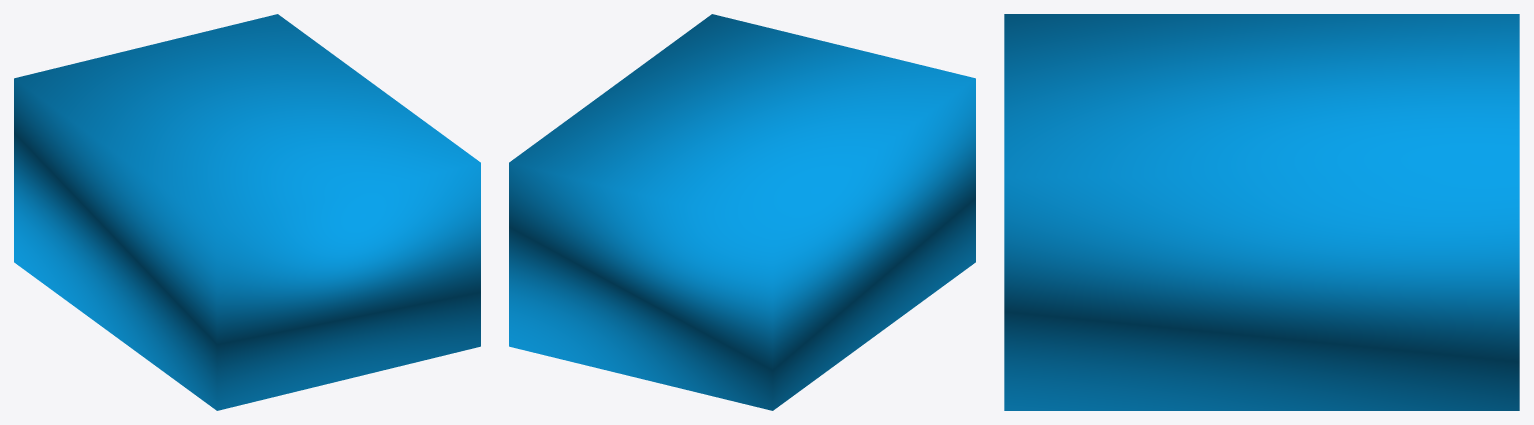
File: dragon_light.dae
The picture shows the model from 3 angles, left to right: view 1: azimuth 30°, elevation 25°; view 2: azimuth 150°, elevation 25°; view 3: azimuth 270°, elevation 25°; orthographic projection. The views are drawn at different scales.
Parts seen in each view (by area): view 1: Cube; view 2: Cube; view 3: Cube.
Part boxes in pixels (box(x1,y1,x2,y2)): Cube: box(14, 14, 480, 410); Cube: box(509, 14, 975, 410); Cube: box(1004, 14, 1519, 410).
Bounding box in the file's own units: 6 × 4 × 8.
